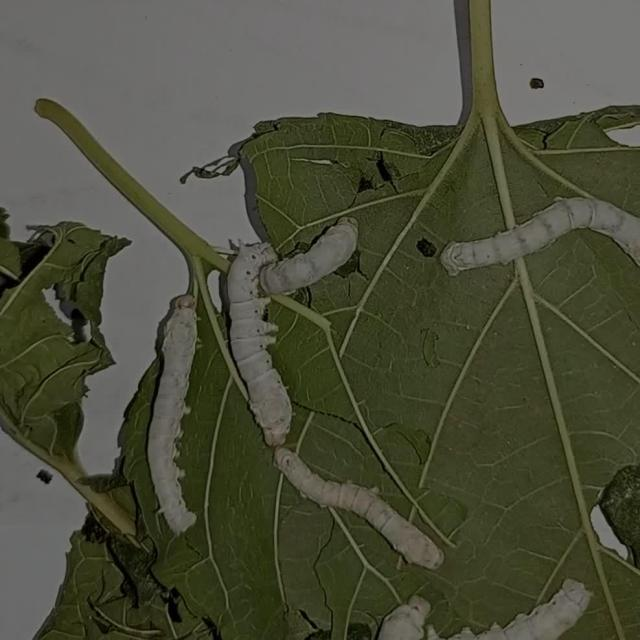Healthy: (136, 279, 212, 552)
